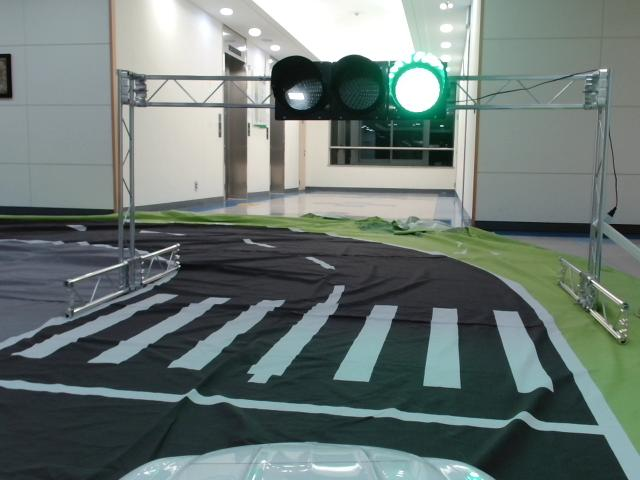crosswalk: (10, 292, 555, 392)
traffic light-green-: (271, 54, 449, 119)
